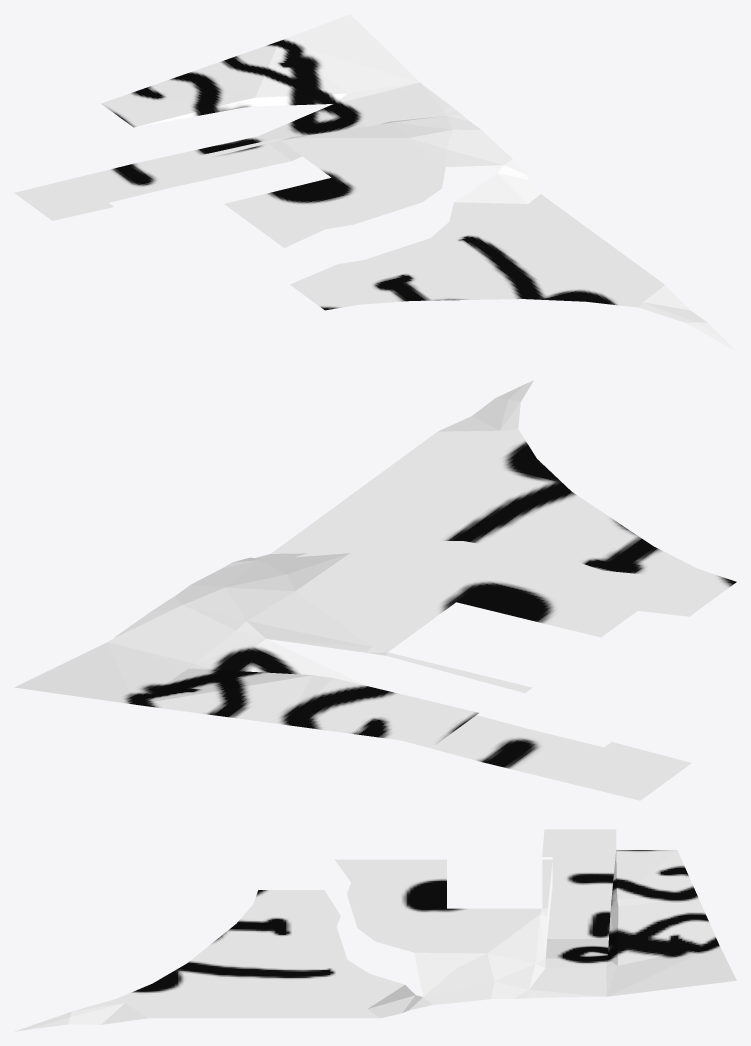
Rendered from pollution02.dae.
The picture shows the model from 3 angles, top to bottom: view 1: azimuth 30°, elevation 25°; view 2: azimuth 150°, elevation 25°; view 3: azimuth 270°, elevation 25°; orthographic projection. The views are drawn at different scales.
Parts seen in each view (by area): view 1: m0; view 2: m0; view 3: m0.
Part boxes in pixels (bbox=[...]): m0: bbox=[14, 14, 736, 351]; m0: bbox=[14, 380, 736, 800]; m0: bbox=[15, 829, 736, 1031].
Size of the model in its own units: 4096 by 558 by 6841.
